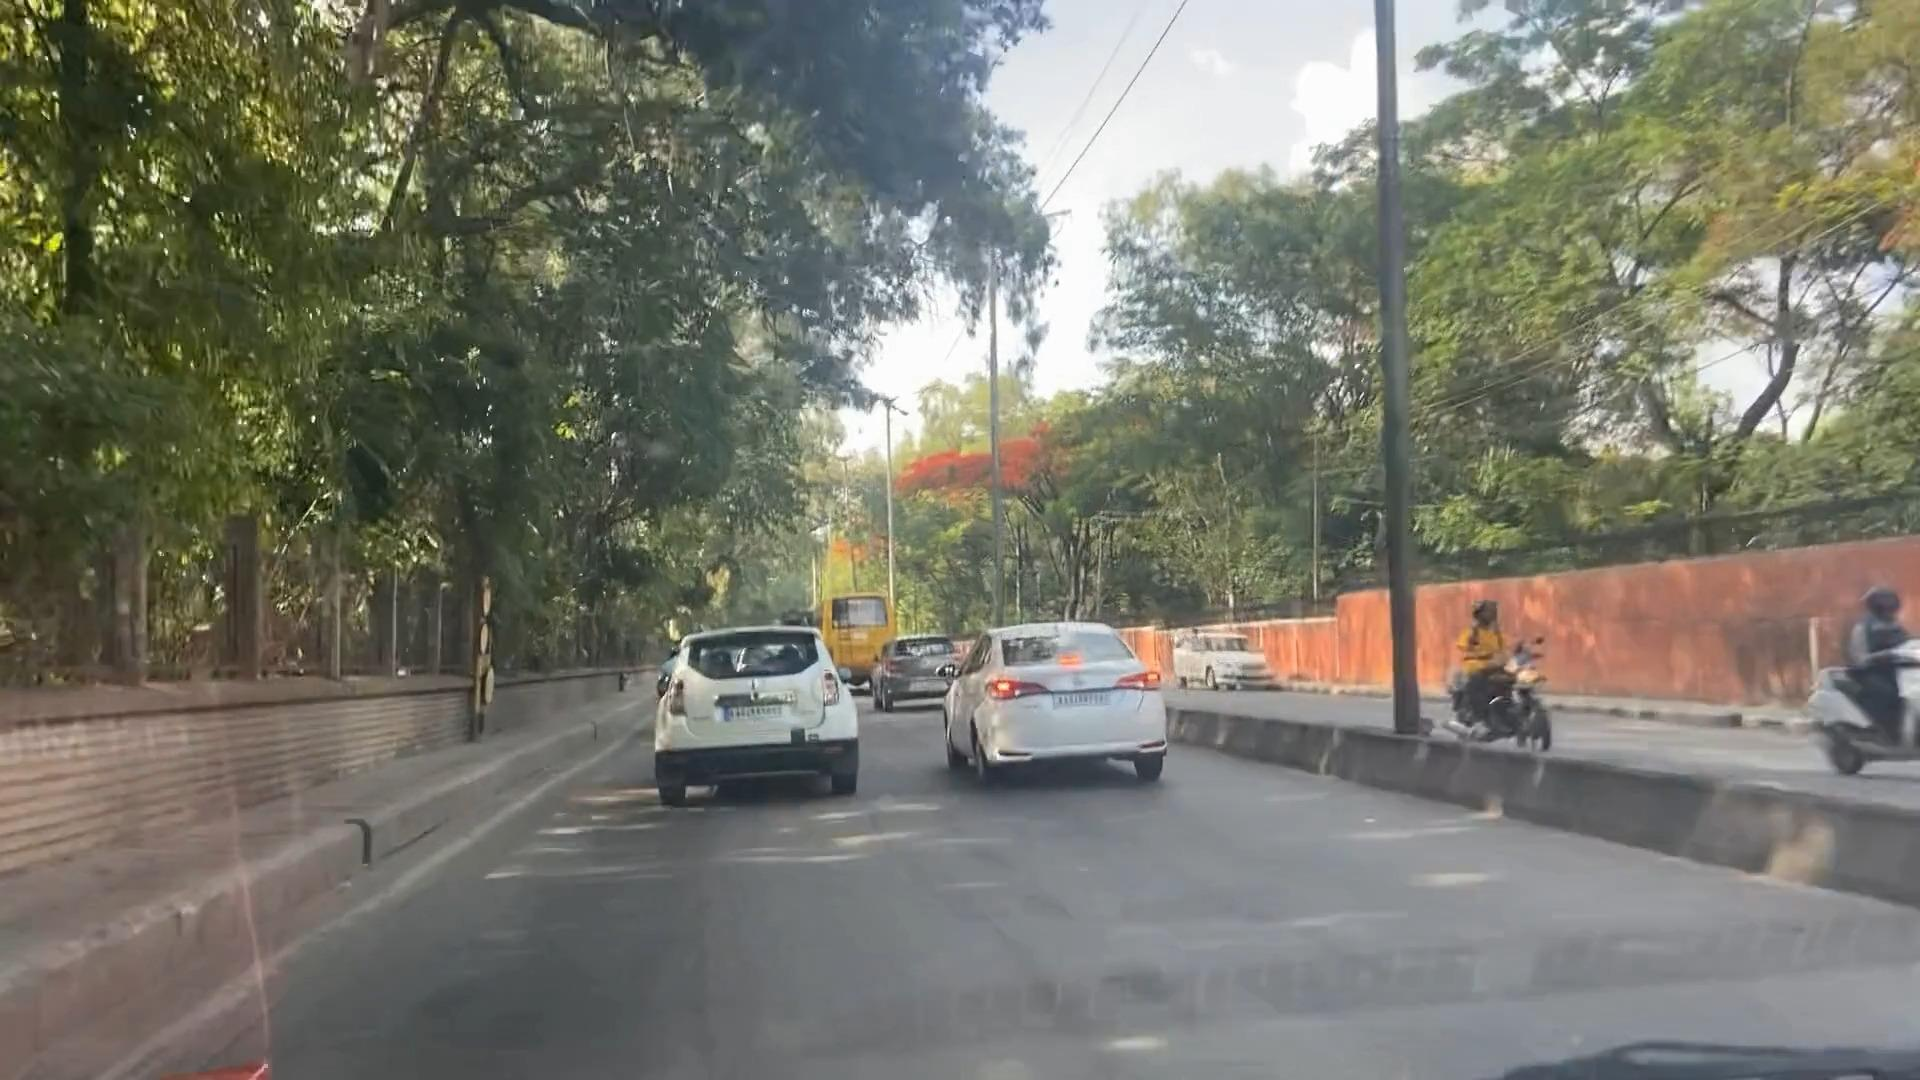LMV: (662, 628, 860, 796), (963, 632, 1156, 770), (876, 630, 947, 705)
